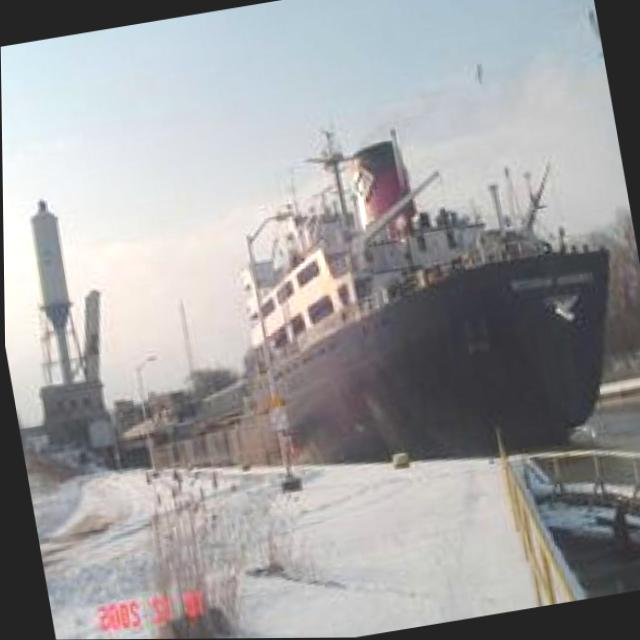ship2: (109, 130, 611, 471)
